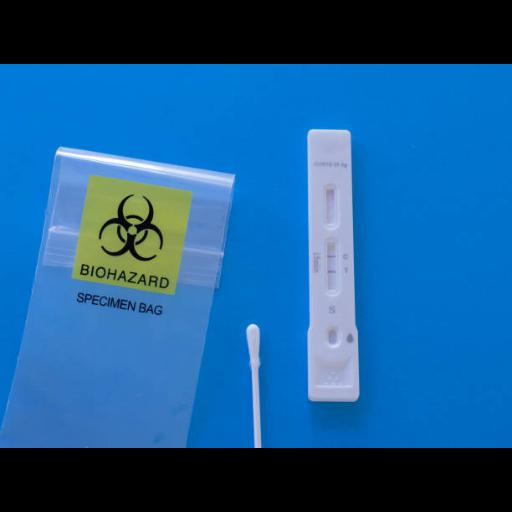Pos: (308, 130, 358, 400)
